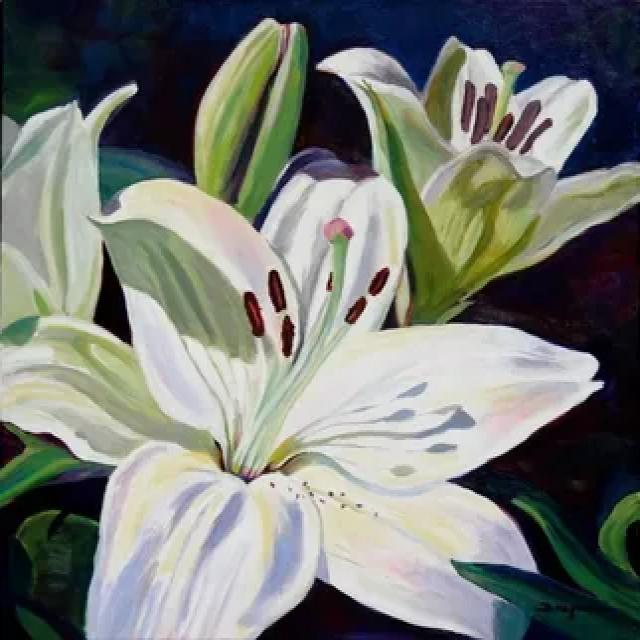lily: (0, 150, 626, 640)
